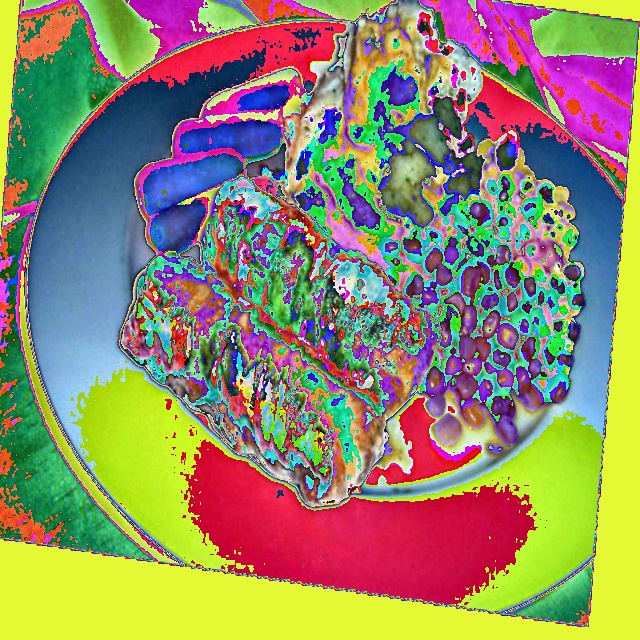background: (118, 0, 586, 509)
